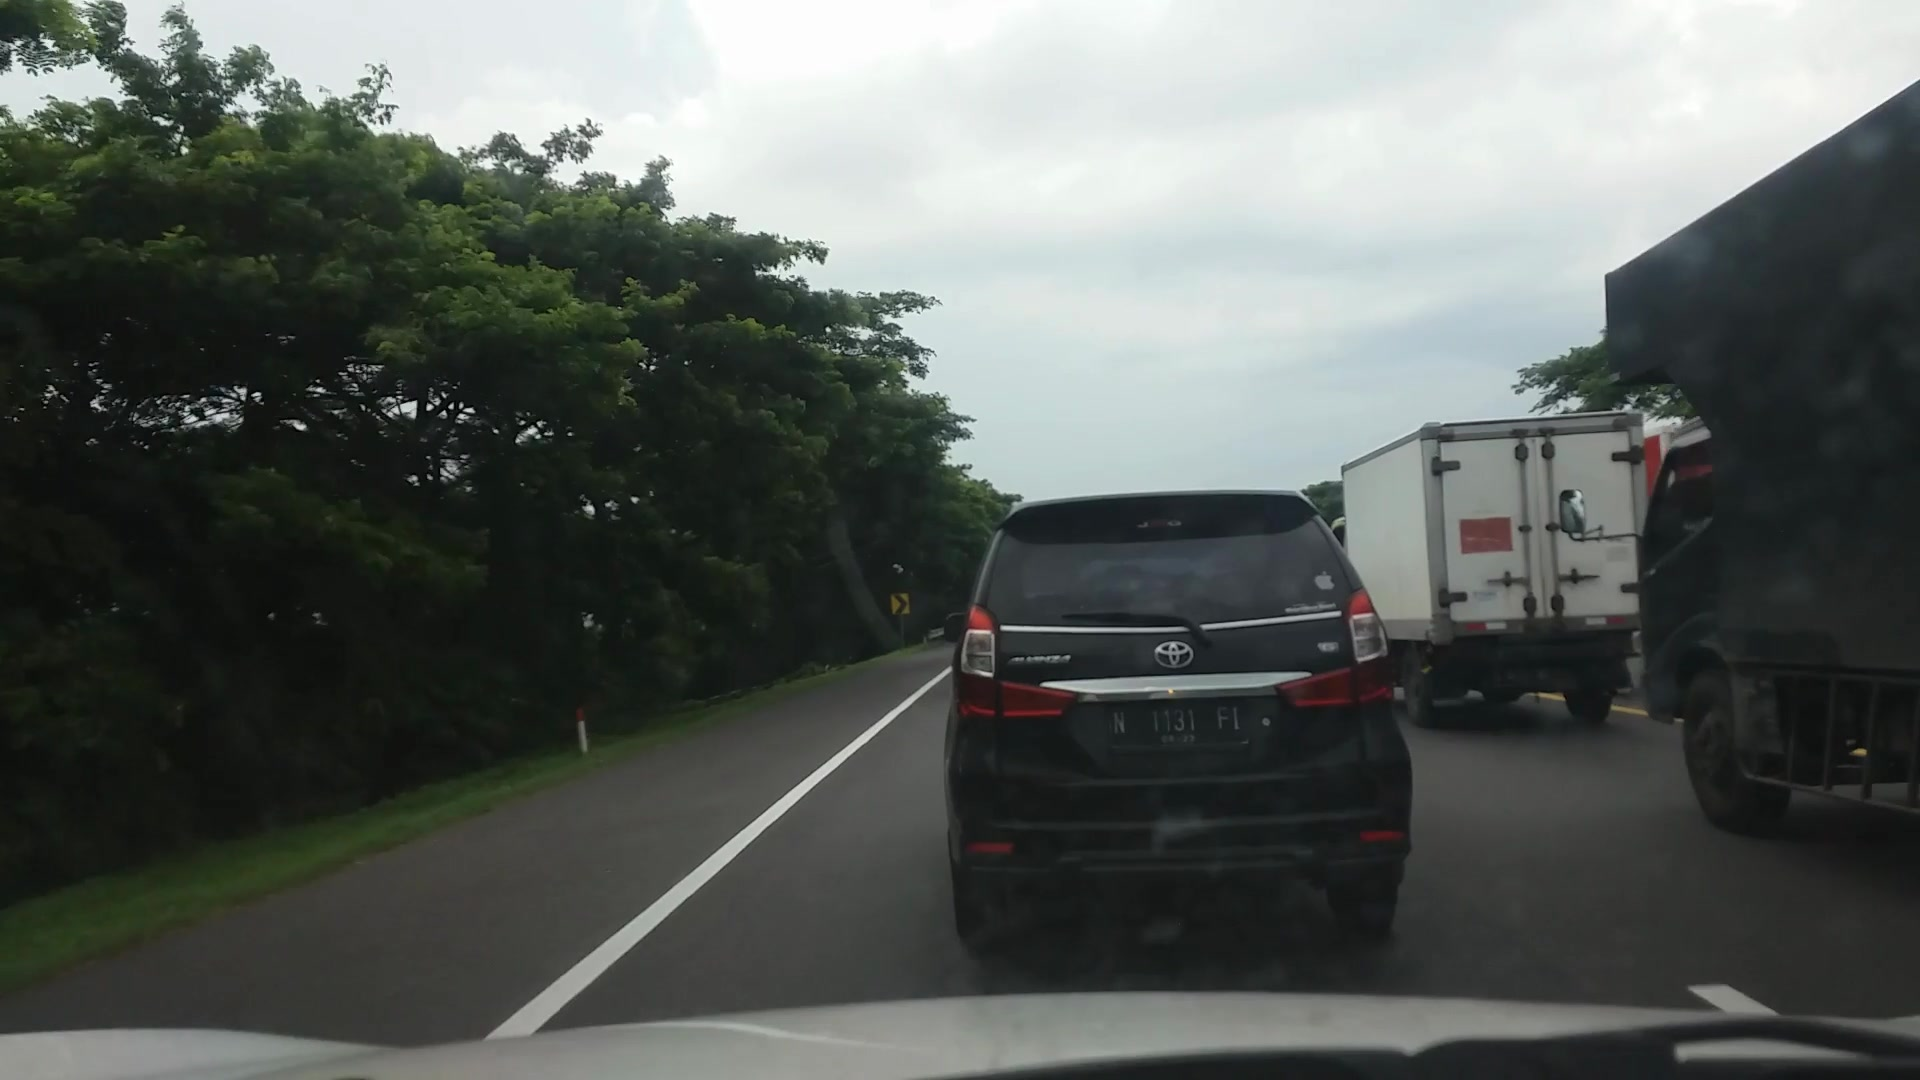plate_positive: (1106, 702, 1247, 745)
